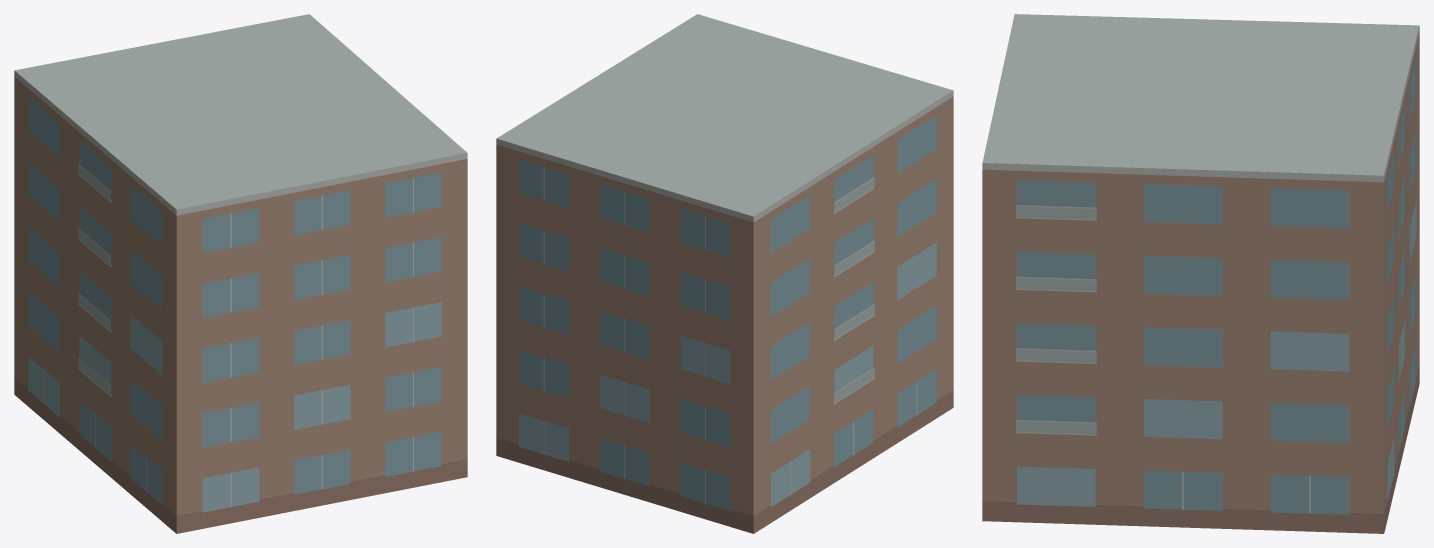
Rendered from survey-upis-32760551.glb.
3 renders of one model, left to right at view 1: azimuth 30°, elevation 25°; view 2: azimuth 150°, elevation 25°; view 3: azimuth 270°, elevation 25°, orthographic. The views are drawn at different scales.
Visible parts, largest first — view 1: survey-upis-32760551.tmp; view 2: survey-upis-32760551.tmp; view 3: survey-upis-32760551.tmp.
Boxes of the visible parts, bbox=[...] form: survey-upis-32760551.tmp: bbox=[14, 14, 467, 533]; survey-upis-32760551.tmp: bbox=[496, 14, 953, 533]; survey-upis-32760551.tmp: bbox=[982, 14, 1419, 533].
Size of the model in its own units: 12.79 by 13.2 by 14.61.
